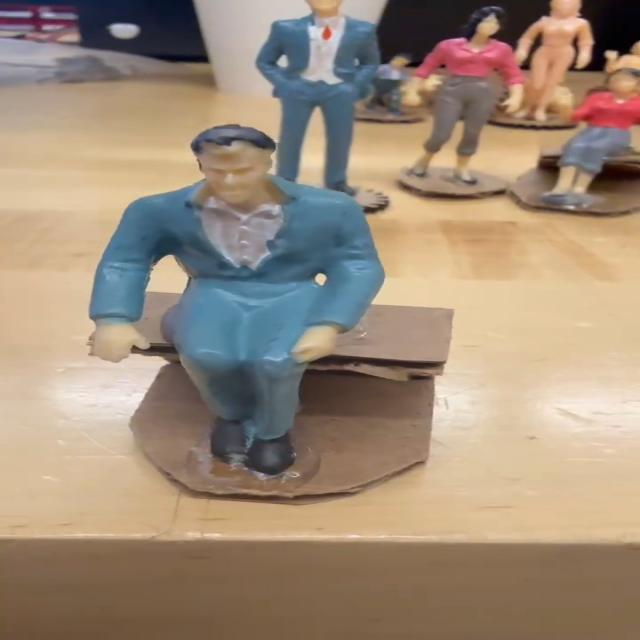Authorized: (62, 120, 403, 474)
